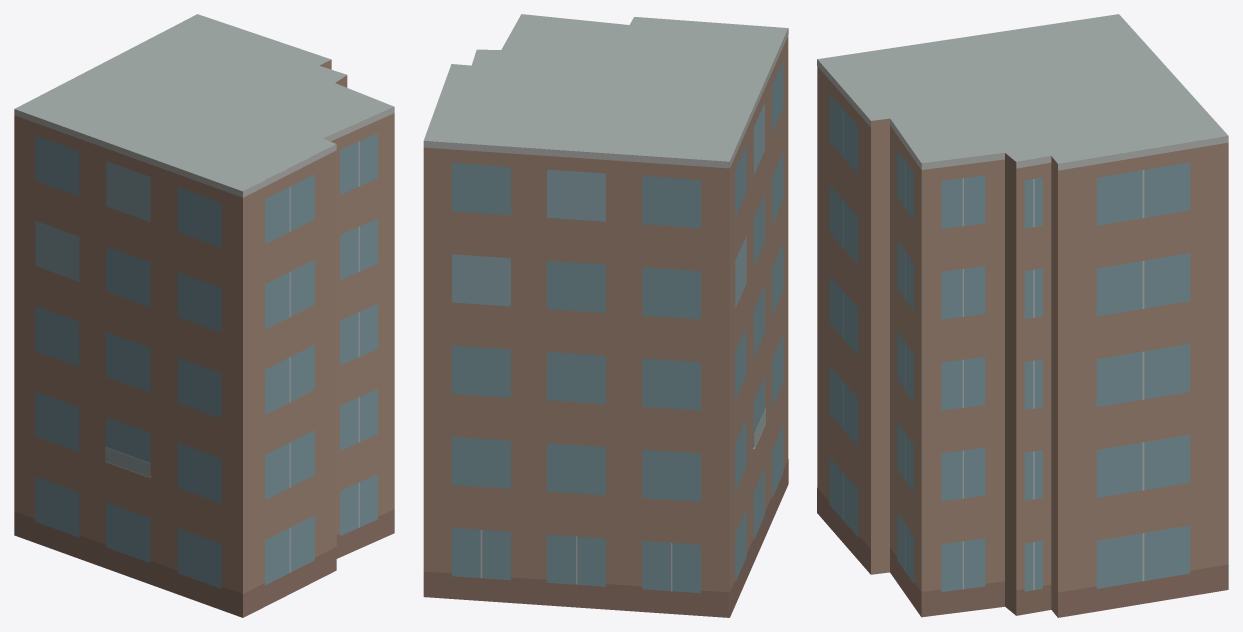
The model's file is survey-upis-32851275.glb.
3 renders of one model, left to right at view 1: azimuth 30°, elevation 25°; view 2: azimuth 150°, elevation 25°; view 3: azimuth 270°, elevation 25°, orthographic. The views are drawn at different scales.
Visible parts, largest first — view 1: survey-upis-32851275.tmp; view 2: survey-upis-32851275.tmp; view 3: survey-upis-32851275.tmp.
Boxes of the visible parts, x1,y1,x2,y2 form: survey-upis-32851275.tmp: (14,14,394,617); survey-upis-32851275.tmp: (423,14,788,617); survey-upis-32851275.tmp: (817,14,1228,617).
Size of the model in its own units: 11.78 by 16.6 by 13.65.
